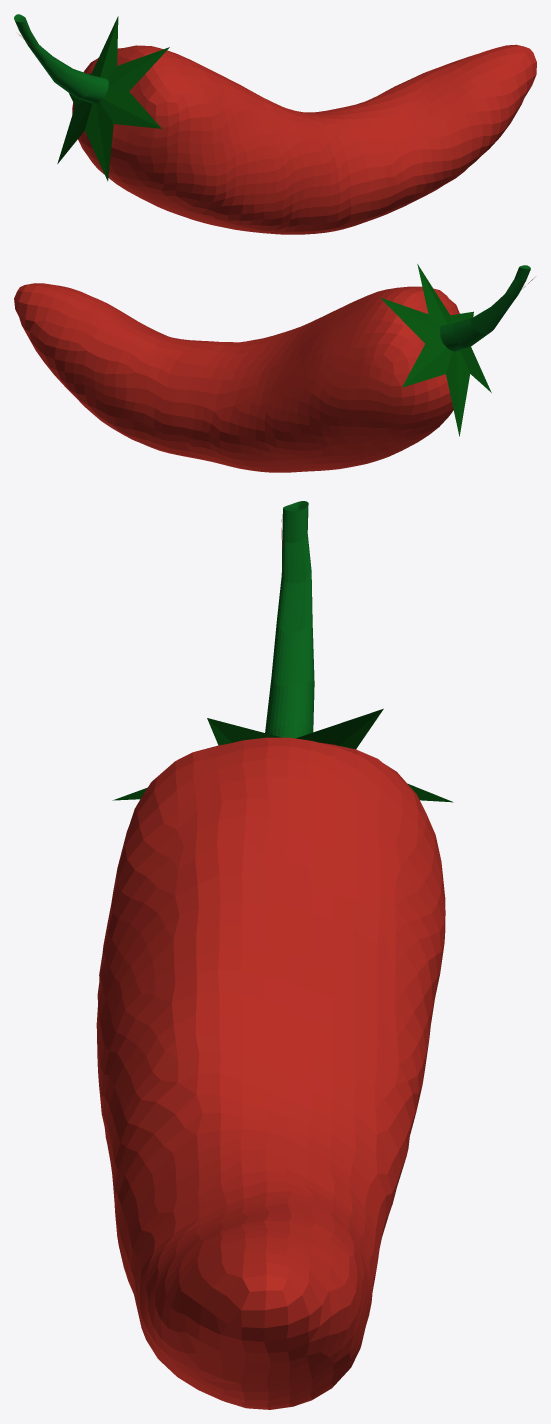
File: A_pepper_1.fbx
3 renders of one model, top to bottom at view 1: azimuth 30°, elevation 25°; view 2: azimuth 150°, elevation 25°; view 3: azimuth 270°, elevation 25°, orthographic. The views are drawn at different scales.
Parts seen in each view (by area): view 1: Group53749; view 2: Group53749; view 3: Group53749.
Part boxes in pixels (left/top/right/bottom): Group53749: left=14, top=14, right=536, bottom=234; Group53749: left=14, top=264, right=533, bottom=472; Group53749: left=96, top=501, right=453, bottom=1409.
Bounding box in the file's own units: 168 × 84.28 × 50.54.
